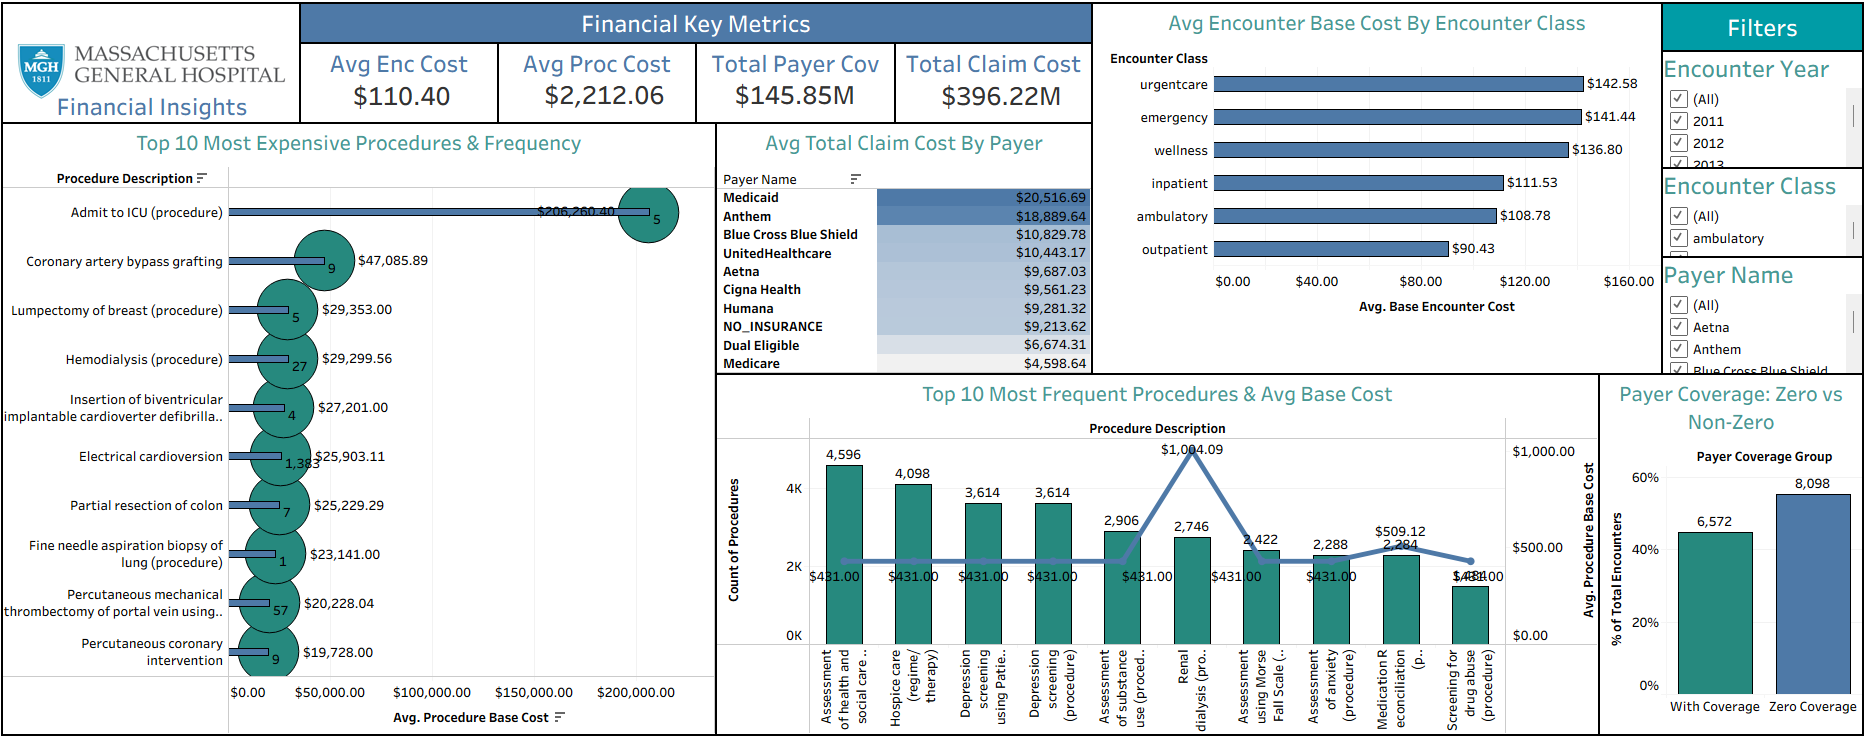

What the dashboard file says about the page in this screenshot:
{"tool":"tableau","page":{"name":"Financial Insights","canvas":[1880,750],"ordinal":0},"visuals":[{"type":"image","param":"Image/massachusetts-general-hospital-logo-png_seeklogo-212994.png","box":[8,8,300,122]},{"type":"text","box":[306,8,200,122]},{"type":"text","box":[306,8,794,42]},{"type":"text","box":[504,8,200,122]},{"type":"text","box":[702,8,201,122]},{"type":"text","box":[901,8,199,122]},{"type":"worksheet","title":"Avg Encounter Base Cost By Encounter Class","mark":"Automatic","rows":["encounter_class"],"cols":["base_encounter_cost"],"box":[1098,8,572,373]},{"type":"text","box":[1668,8,203,50]},{"type":"filter","title":"Avg Encounter Base Cost By Encounter Class","param":"[federated.16f0fpg1ebmwvw19k7khh0ex8na3].[none:Calculation_0001040236839181:ok]","box":[1668,56,203,119]},{"type":"worksheet","title":"KPI (Avg Procedure Cost)","mark":"Automatic","box":[506,85,200,43]},{"type":"worksheet","title":"KPI (Avg Encounter Cost) ","mark":"Automatic","box":[308,86,200,43]},{"type":"worksheet","title":"KPI (Total Payer Coverage)","mark":"Automatic","box":[709,87,188,43]},{"type":"worksheet","title":"KPI (Total Claim Cost)","mark":"Automatic","box":[903,88,199,43]},{"type":"text","box":[9.1,94,299.7,36]},{"type":"worksheet","title":"Top 10 Most Expensive Procedures & Frequency","mark":"Automatic","rows":["procedure_description"],"cols":["procedure_base_cost","procedure_base_cost"],"box":[8,128,716,614]},{"type":"worksheet","title":"Avg Total Claim Cost By Payer","mark":"Square","rows":["payer_name"],"box":[722,128,378,253]},{"type":"filter","title":"Avg Encounter Base Cost By Encounter Class","param":"[federated.16f0fpg1ebmwvw19k7khh0ex8na3].[none:encounter_class:nk]","box":[1668,173,203,91]},{"type":"filter","title":"Avg Total Claim Cost By Payer","param":"[federated.16f0fpg1ebmwvw19k7khh0ex8na3].[none:payer_name:nk]","box":[1668,262,203,119]},{"type":"worksheet","title":"Top 10 Most Frequent Procedures & Avg Base Cost","mark":"Line","rows":["Calculation_0001040963014661","procedure_base_cost"],"cols":["procedure_description"],"box":[722,379,885,363]},{"type":"worksheet","title":"Payer Coverage: Zero vs Non-Zero","mark":"Automatic","cols":["Calculation_0001040904011790"],"box":[1605,379,266,363]}]}

Visuals, with their boxes in screenshot pixels (x1, y1, x2, y2), scaled from the page's 1880x750 canvas onto the 1867x739 screenshot:
image: [left=8, top=8, right=306, bottom=128]
text: [left=304, top=8, right=503, bottom=128]
text: [left=304, top=8, right=1092, bottom=49]
text: [left=501, top=8, right=699, bottom=128]
text: [left=697, top=8, right=897, bottom=128]
text: [left=895, top=8, right=1092, bottom=128]
"Avg Encounter Base Cost By Encounter Class" worksheet: [left=1090, top=8, right=1658, bottom=375]
text: [left=1656, top=8, right=1858, bottom=57]
"Avg Encounter Base Cost By Encounter Class" filter: [left=1656, top=55, right=1858, bottom=172]
"KPI (Avg Procedure Cost)" worksheet: [left=503, top=84, right=701, bottom=126]
"KPI (Avg Encounter Cost) " worksheet: [left=306, top=85, right=504, bottom=127]
"KPI (Total Payer Coverage)" worksheet: [left=704, top=86, right=891, bottom=128]
"KPI (Total Claim Cost)" worksheet: [left=897, top=87, right=1094, bottom=129]
text: [left=9, top=93, right=307, bottom=128]
"Top 10 Most Expensive Procedures & Frequency" worksheet: [left=8, top=126, right=719, bottom=731]
"Avg Total Claim Cost By Payer" worksheet (Square marks): [left=717, top=126, right=1092, bottom=375]
"Avg Encounter Base Cost By Encounter Class" filter: [left=1656, top=170, right=1858, bottom=260]
"Avg Total Claim Cost By Payer" filter: [left=1656, top=258, right=1858, bottom=375]
"Top 10 Most Frequent Procedures & Avg Base Cost" worksheet (Line marks): [left=717, top=373, right=1596, bottom=731]
"Payer Coverage: Zero vs Non-Zero" worksheet: [left=1594, top=373, right=1858, bottom=731]
